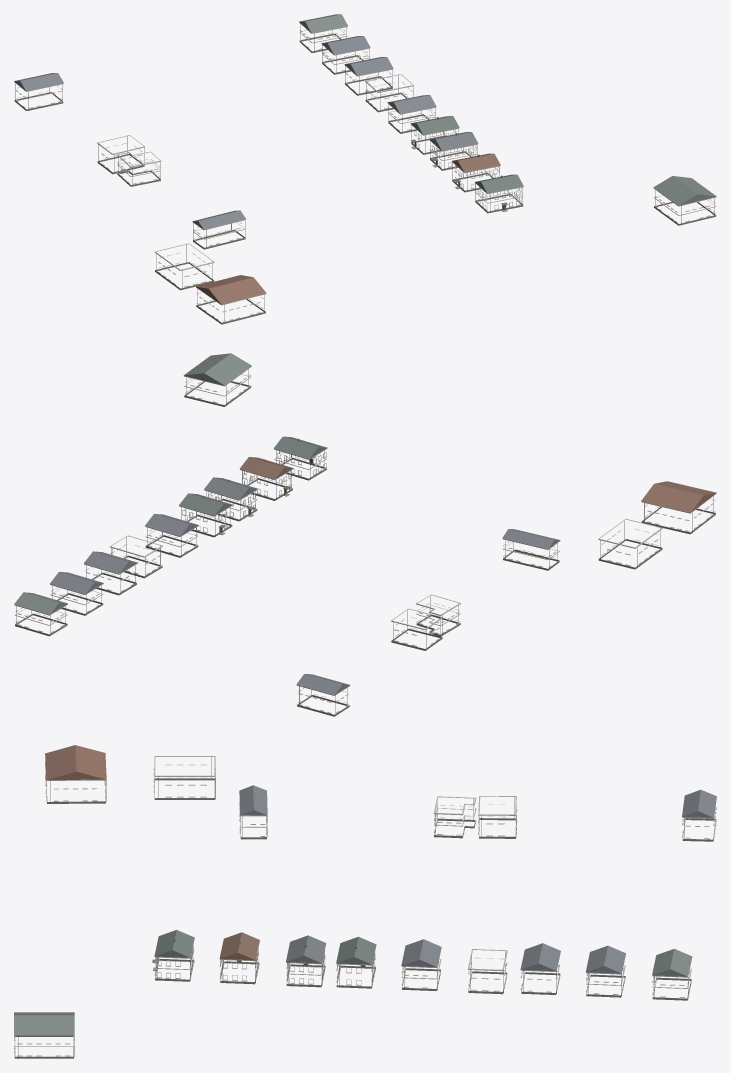
The model's file is district_-1_-1.glb.
The picture shows the model from 3 angles, top to bottom: view 1: azimuth 30°, elevation 25°; view 2: azimuth 150°, elevation 25°; view 3: azimuth 270°, elevation 25°; orthographic projection. The views are drawn at different scales.
Visible parts, largest first — view 1: RoofMetal, MasonryTrim, MetalDetails; view 2: RoofMetal, MasonryTrim, MetalDetails; view 3: RoofMetal, MasonryTrim, MetalDetails.
Boxes of the visible parts, <box> form: RoofMetal: <box>14,14,716,304</box>; MasonryTrim: <box>14,22,716,324</box>; MetalDetails: <box>15,23,714,323</box>; RoofMetal: <box>14,353,716,695</box>; MasonryTrim: <box>14,366,716,716</box>; MetalDetails: <box>16,369,713,715</box>; RoofMetal: <box>14,745,716,1034</box>; MasonryTrim: <box>14,756,716,1058</box>; MetalDetails: <box>14,757,714,1058</box>.
Bounding box in the file's own units: 189 × 10.35 × 199.
